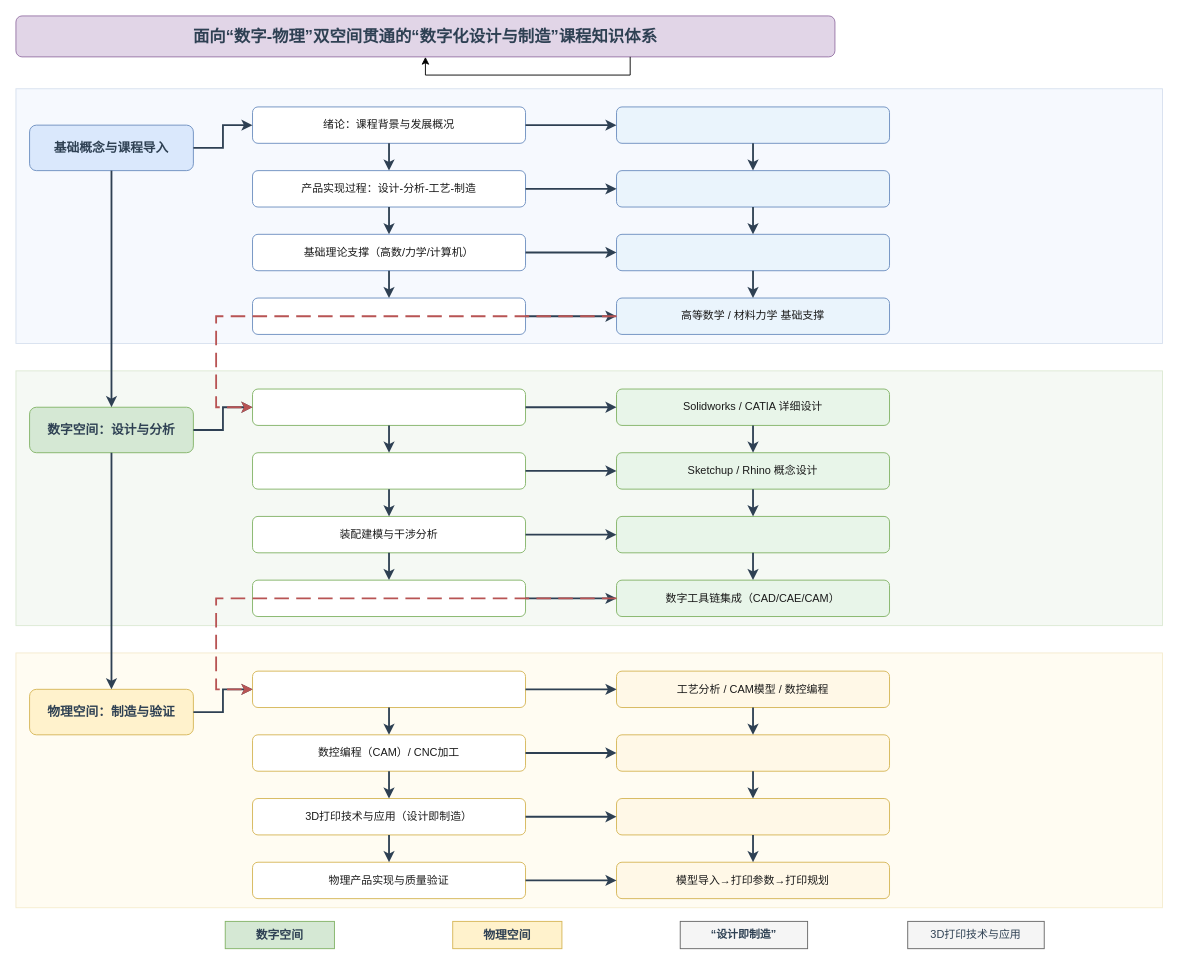
The diagram is 1178 pixels wide and 965 high, and some of its shapes have lost their labels. Here are the shapes that lost their labels. From the top down, the centre of each, then its label:
(x=753, y=124): 数字孪生 / 生成式AI / VR/AR
(x=753, y=188): 计算机图形学（CG）基础理论
(x=753, y=252): 工程制图 / 机械原理 / 机械设计
(x=389, y=315): 图形学基础与工程制图规范
(x=389, y=406): 概念设计→初步设计→详细设计
(x=389, y=470): 产品建模（CAGD）/ 曲面设计
(x=753, y=534): Ansys / Adams 有限元分析
(x=389, y=598): 工程分析（有限元/质量特性分析）
(x=389, y=689): 工艺过程规划（CAPP）/ GT决策
(x=753, y=752): 熔融沉积 / 立体光刻 / 激光烧结
(x=753, y=816): 3D打印机（数字光/电子束/模型打印）
